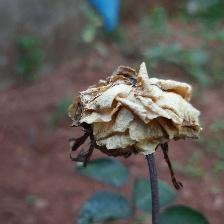rose: (68, 61, 205, 195)
